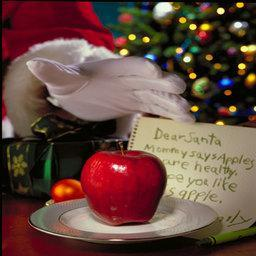apple: (81, 151, 168, 228)
